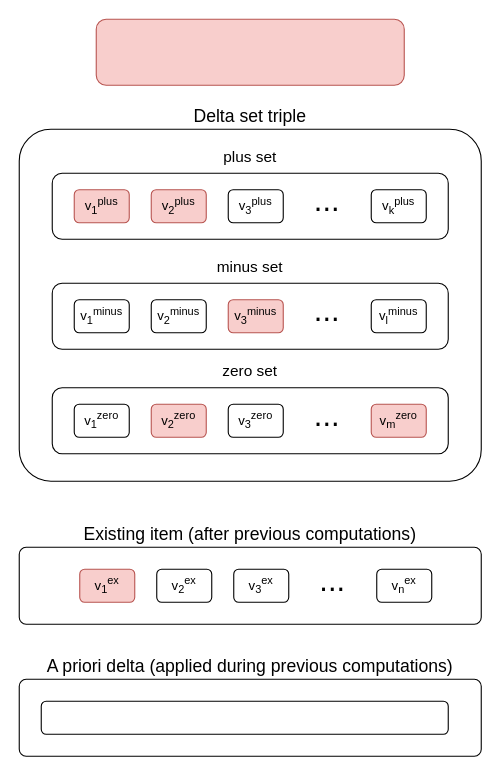
Some shapes in this 501 by 776 pixel diagram are drawn without their labels. Each missing label, with the centre of its shape:
some values here (in add / delete / replace sets): point (244, 717)
value being consolidated: v 0: point (249, 51)
